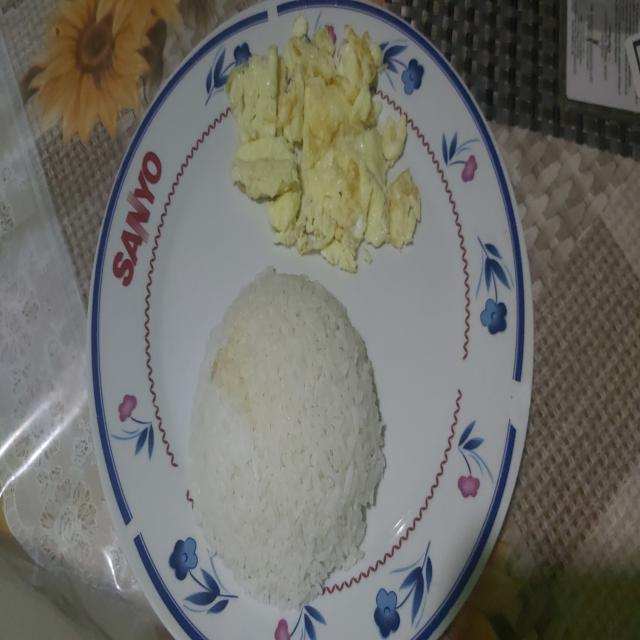Chicken -Chicken Inasal-: (192, 269, 386, 590)
